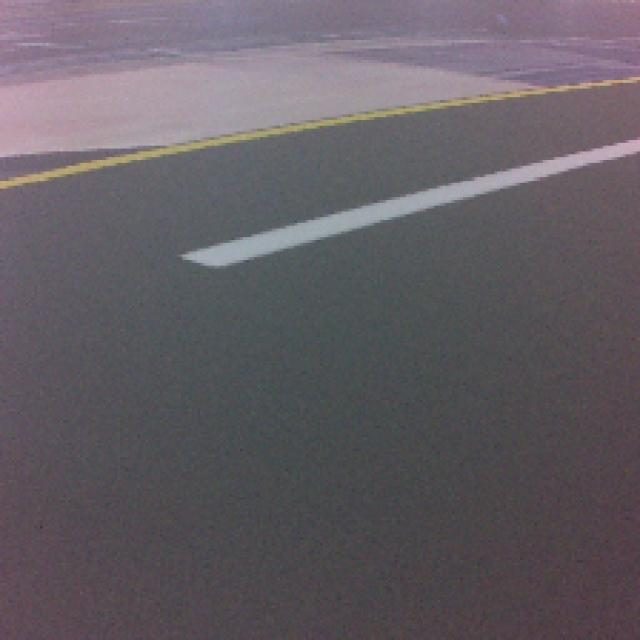Road: (0, 383, 639, 640)
